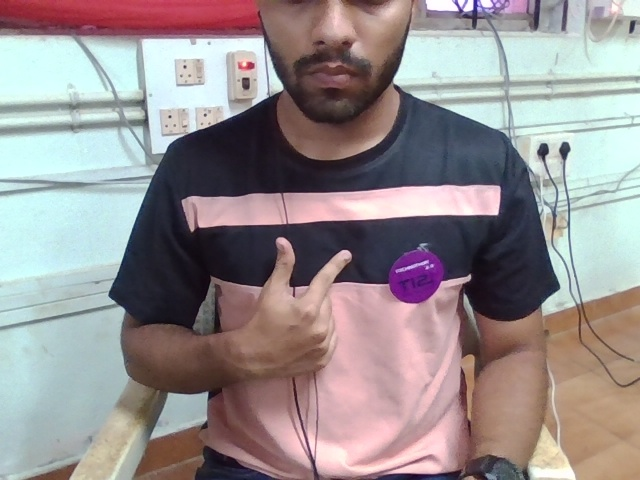my turn: (220, 226, 397, 412)
